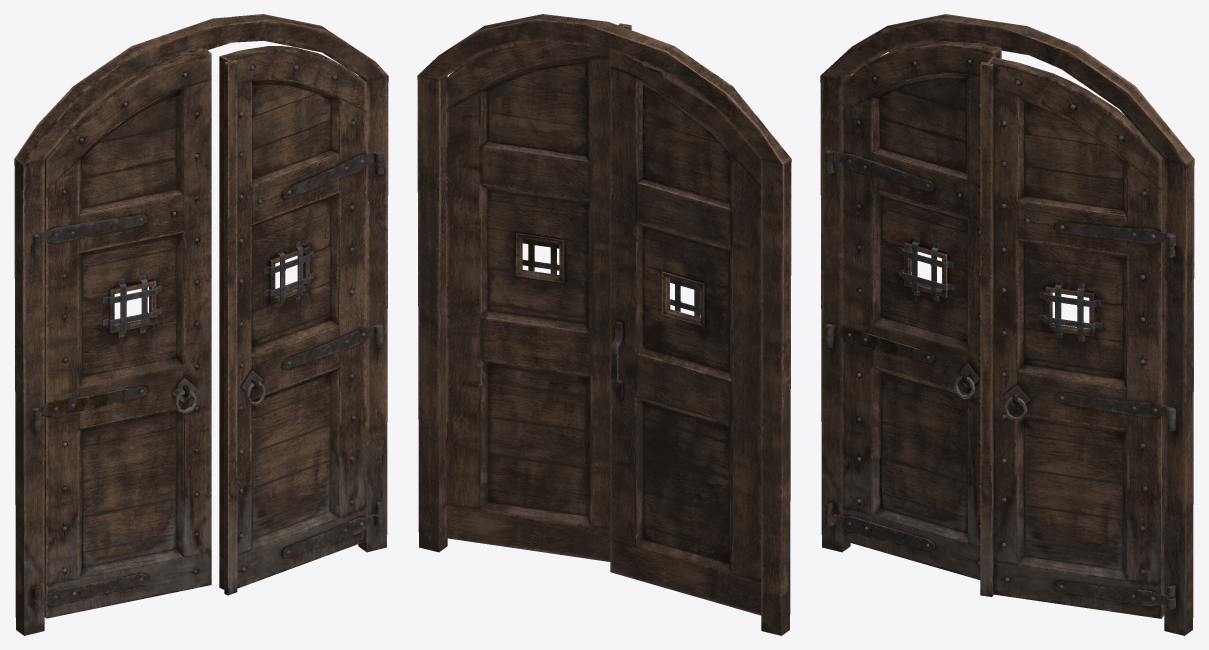
Rendered from large_castle_door_lod2.glb.
The picture shows the model from 3 angles, left to right: view 1: azimuth 30°, elevation 25°; view 2: azimuth 150°, elevation 25°; view 3: azimuth 330°, elevation 25°; orthographic projection.
Visible parts, largest first — view 1: large_castle_door_left, large_castle_door_right, large_castle_door_frame; view 2: large_castle_door_right, large_castle_door_left, large_castle_door_frame; view 3: large_castle_door_right, large_castle_door_left, large_castle_door_frame.
Boxes of the visible parts, x1,y1,x2,y2 form: large_castle_door_left: (32, 48, 211, 618); large_castle_door_right: (219, 46, 383, 595); large_castle_door_frame: (14, 14, 388, 635); large_castle_door_right: (446, 23, 631, 561); large_castle_door_left: (610, 50, 761, 615); large_castle_door_frame: (417, 14, 791, 635); large_castle_door_right: (980, 57, 1175, 618); large_castle_door_left: (824, 41, 1001, 579); large_castle_door_frame: (820, 14, 1194, 635).
Bounding box in the file's own units: 2.01 × 2.96 × 0.2963.
1 material, 1 textured.
